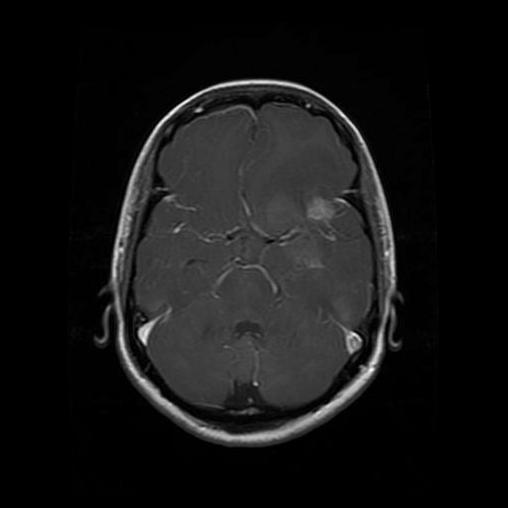Tumour-Glioma: (295, 186, 339, 238)
